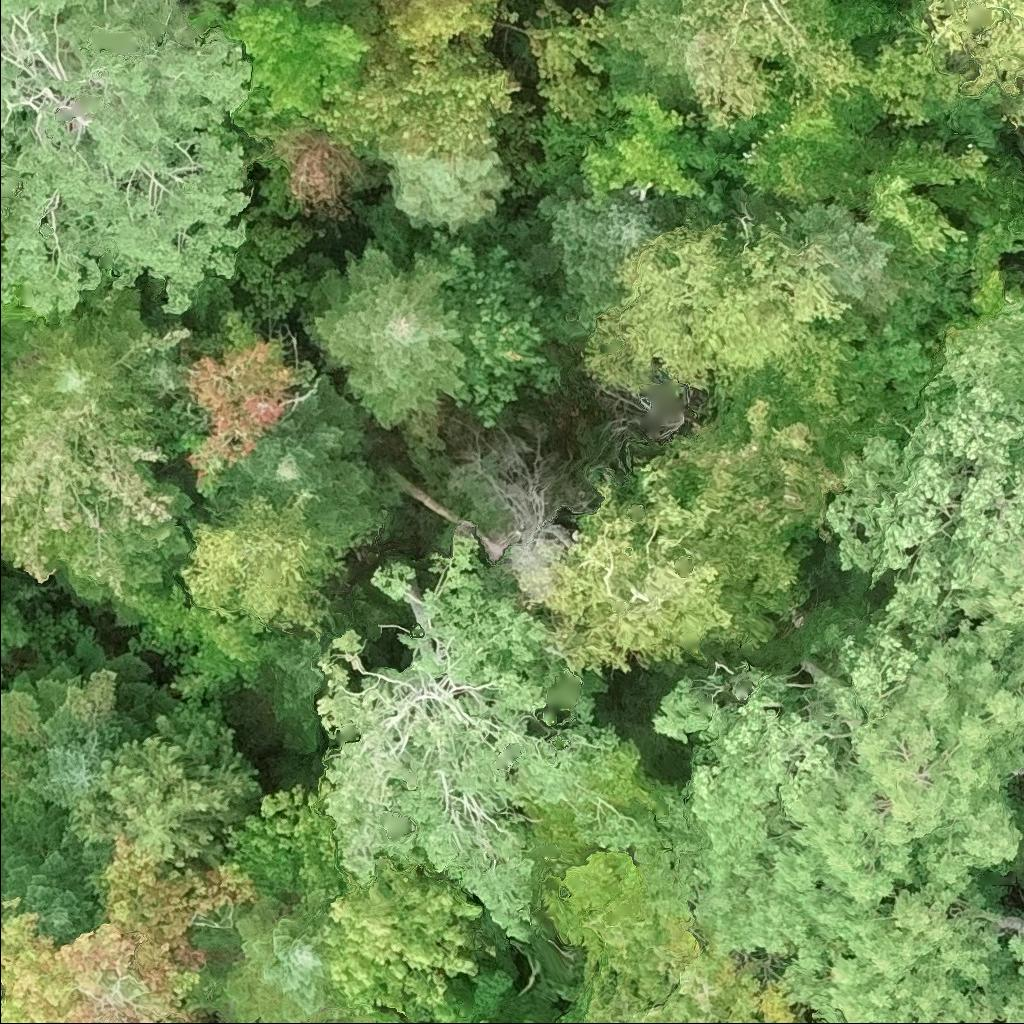crown: (643, 614, 1023, 1023), (313, 531, 661, 942), (643, 306, 923, 649), (0, 0, 254, 322), (824, 294, 1023, 651), (0, 834, 256, 1023), (578, 211, 821, 396), (538, 459, 740, 679), (58, 699, 266, 909), (0, 366, 176, 596), (0, 629, 182, 840), (294, 238, 469, 429), (425, 940, 815, 1023), (212, 367, 392, 542), (318, 14, 526, 158), (321, 856, 488, 1023), (432, 230, 565, 431), (528, 171, 681, 339), (685, 0, 879, 130), (186, 494, 348, 639), (191, 0, 379, 124), (183, 299, 297, 501), (749, 186, 916, 315), (559, 854, 697, 1002), (725, 84, 885, 209), (582, 81, 748, 201), (0, 288, 152, 409), (215, 887, 348, 1023), (228, 116, 390, 223), (859, 133, 991, 260), (217, 778, 341, 906), (732, 217, 860, 331), (914, 0, 1023, 125), (374, 137, 508, 236), (523, 0, 618, 131), (0, 825, 100, 946), (873, 22, 986, 127), (595, 0, 699, 114), (258, 626, 330, 757), (379, 0, 504, 64), (969, 930, 1023, 1023), (290, 0, 321, 4), (377, 0, 384, 14), (434, 0, 442, 0)
